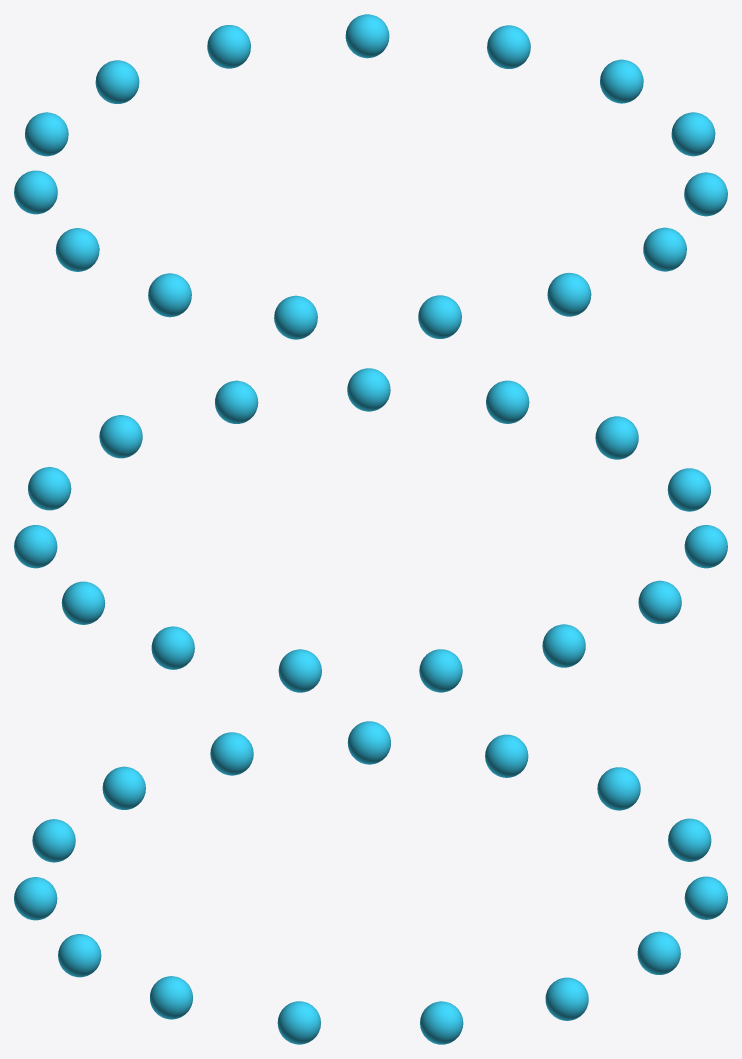
3 views of the same model, one above another, from view 1: azimuth 30°, elevation 25°; view 2: azimuth 150°, elevation 25°; view 3: azimuth 270°, elevation 25° (orthographic).
Parts seen in each view (by area): view 1: Sphere048; view 2: Sphere048; view 3: Sphere048.
Part boxes in pixels (<box>): Sphere048: <box>14,14,727,339</box>; Sphere048: <box>14,368,727,692</box>; Sphere048: <box>14,721,727,1044</box>.
Size of the model in its own units: 134 by 8.22 by 135.
